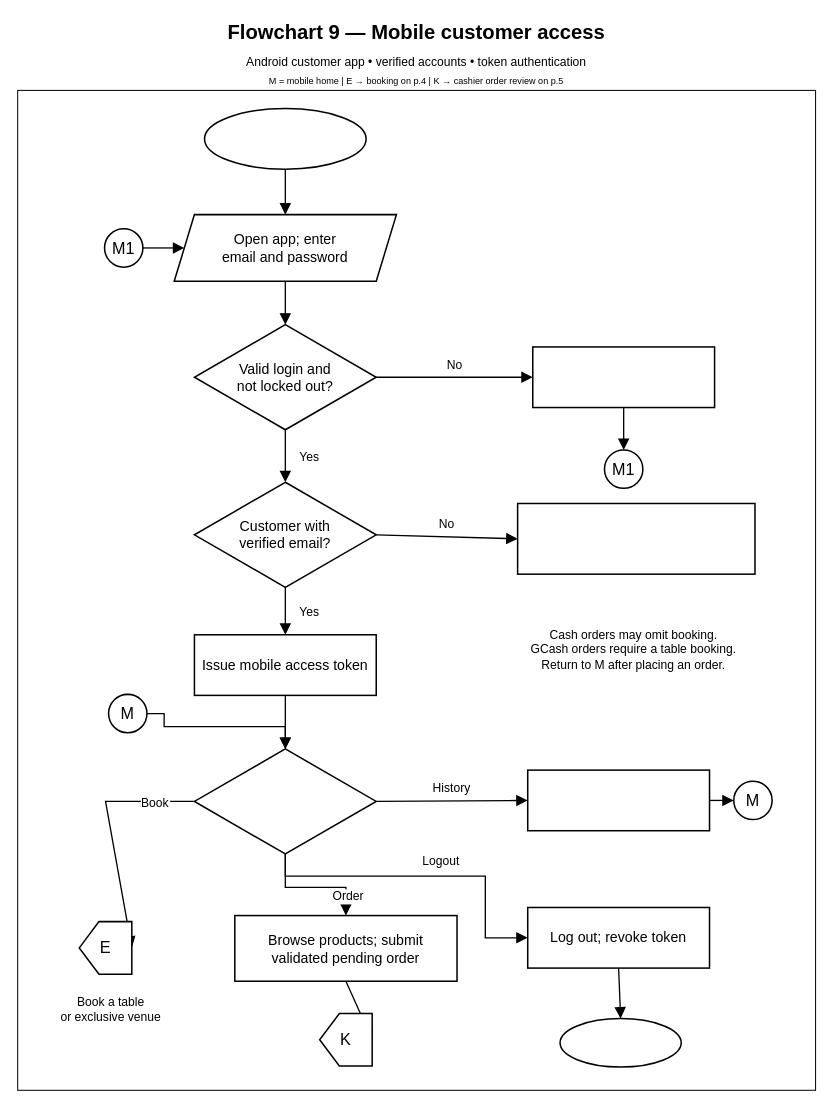
Some shapes in this 833 by 1108 pixel diagram are drawn without their labels. The centre of each missing label's shape, as x and y in pixels:
"Choose activity" belongs at (x=285, y=801).
"End" belongs at (x=620, y=1042).
"Reject login; verify email or use website for staff access" belongs at (x=635, y=538).
"Show error or retry delay" belongs at (x=623, y=377).
"Start" belongs at (x=284, y=138).
"View own orders and reservations" belongs at (x=618, y=800).
